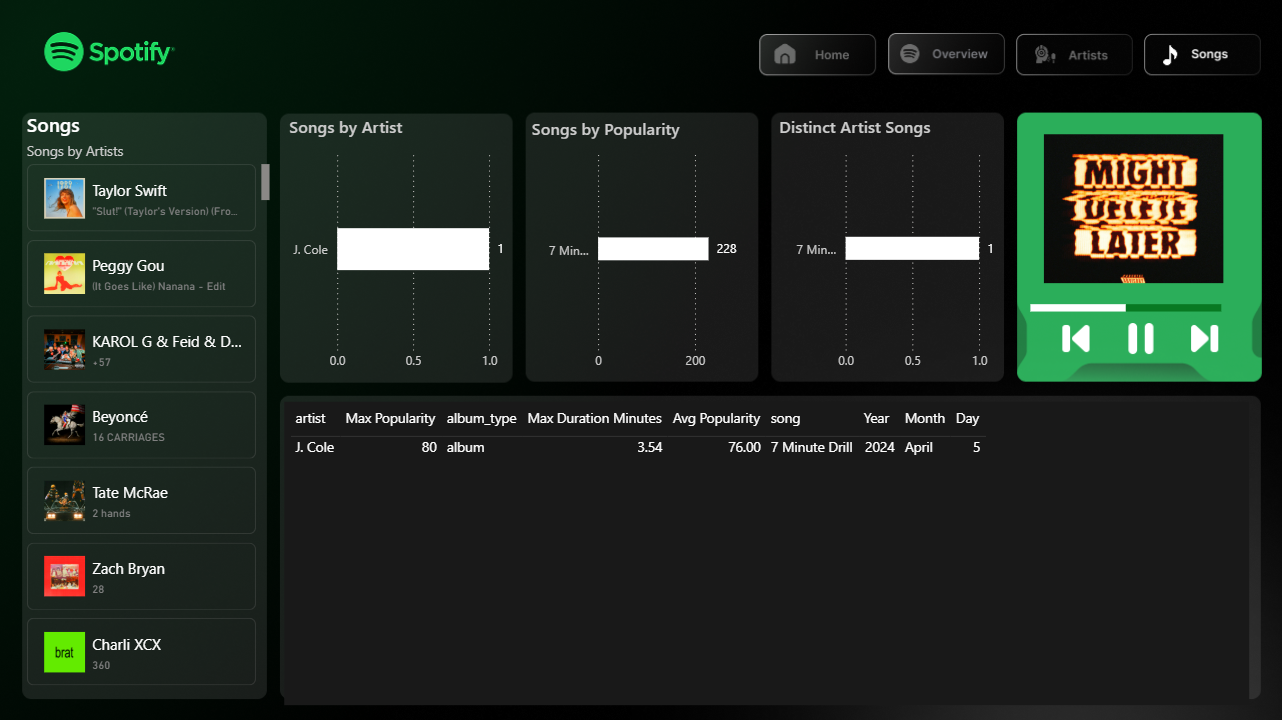

Layout of this report page (visuals, bound fields, positions):
{"tool":"powerbi","page":{"name":"Songs","canvas":[1280,720],"ordinal":3},"visuals":[{"type":"image","box":[20,0,1260,720],"z":0},{"type":"actionButton","box":[764.2,37,112.5,39.8],"z":1000},{"type":"actionButton","box":[889,37,118,39.8],"z":2000},{"type":"actionButton","box":[1019.4,37,108.4,39.8],"z":3000},{"type":"actionButton","box":[1145.7,37,108.4,39.8],"z":4000},{"type":"advancedSlicerVisual","title":"Songs","fields":{"Values":["Top-50-World.song"],"Label":["_Measures.Avg Popularity"]},"box":[42.8,116.2,247,572.3],"z":5000},{"type":"tableEx","fields":{"Values":["Top-50-World.artist","_Measures.Max Popularity","Top-50-World.album_type","_Measures.Max Duration Minutes","_Measures.Avg Popularity","Top-50-World.song","Top-50-World.release_date.Variation.Date Hierarchy.Year","Top-50-World.release_date.Variation.Date Hierarchy.Month","Top-50-World.release_date.Variation.Date Hierarchy.Day"]},"box":[300,400,944.3,297.1],"z":6000},{"type":"shape","box":[552.9,115.7,241.4,281.4],"z":7000},{"type":"clusteredBarChart","title":"Songs by Artist","fields":{"Y":["_Measures.Distinct Songs"],"Category":["Top-50-World.artist"]},"box":[300,120,228.6,258.6],"z":8000},{"type":"image","box":[1117.1,322.9,40,30],"z":9000},{"type":"image","box":[1180,322.9,40,30],"z":10000},{"type":"image","box":[1054.3,322.9,40,30],"z":11000},{"type":"barChart","fields":{"Y":["Avg(Top-50-World.popularity)","_Measures.Avg Popularity"]},"box":[1024.3,271.4,255.7,67.1],"z":12000},{"type":"cardVisual","fields":{"Data":["Min(Top-50-World.album_cover_url)"]},"box":[1014.3,121.4,265.7,180],"z":13000},{"type":"clusteredBarChart","title":"Songs by Popularity","fields":{"Y":["Sum(Top-50-World.popularity)"],"Category":["Top-50-World.song"]},"box":[537.1,121.4,227.1,257.1],"z":14000},{"type":"clusteredBarChart","title":"Distinct Artist Songs","fields":{"Y":["_Measures.Distinct Artists"],"Category":["Top-50-World.song"]},"box":[778.6,120,228.6,258.6],"z":15000}]}

Visuals, with their boxes in screenshot pixels (x1, y1, x2, y2), scaled from the page's 1280x720 canvas onto the 1282x720 screenshot:
image: box=[20, 0, 1281, 719]
actionButton: box=[765, 37, 878, 77]
actionButton: box=[890, 37, 1009, 77]
actionButton: box=[1021, 37, 1130, 77]
actionButton: box=[1147, 37, 1256, 77]
"Songs" advancedSlicerVisual: box=[43, 116, 290, 688]
tableEx - Top-50-World.artist x _Measures.Max Popularity: box=[300, 400, 1246, 697]
shape: box=[554, 116, 796, 397]
"Songs by Artist" clusteredBarChart: box=[300, 120, 529, 379]
image: box=[1119, 323, 1159, 353]
image: box=[1182, 323, 1222, 353]
image: box=[1056, 323, 1096, 353]
barChart - Avg(Top-50-World.popularity) x _Measures.Avg Popularity: box=[1026, 271, 1281, 338]
cardVisual - Min(Top-50-World.album_cover_url): box=[1016, 121, 1281, 301]
"Songs by Popularity" clusteredBarChart: box=[538, 121, 765, 378]
"Distinct Artist Songs" clusteredBarChart: box=[780, 120, 1009, 379]
